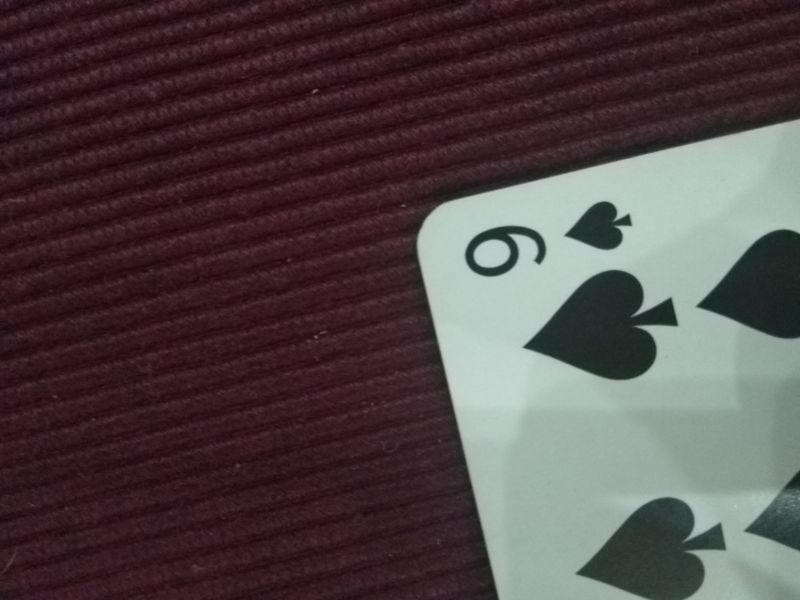9s: (460, 198, 636, 280)
